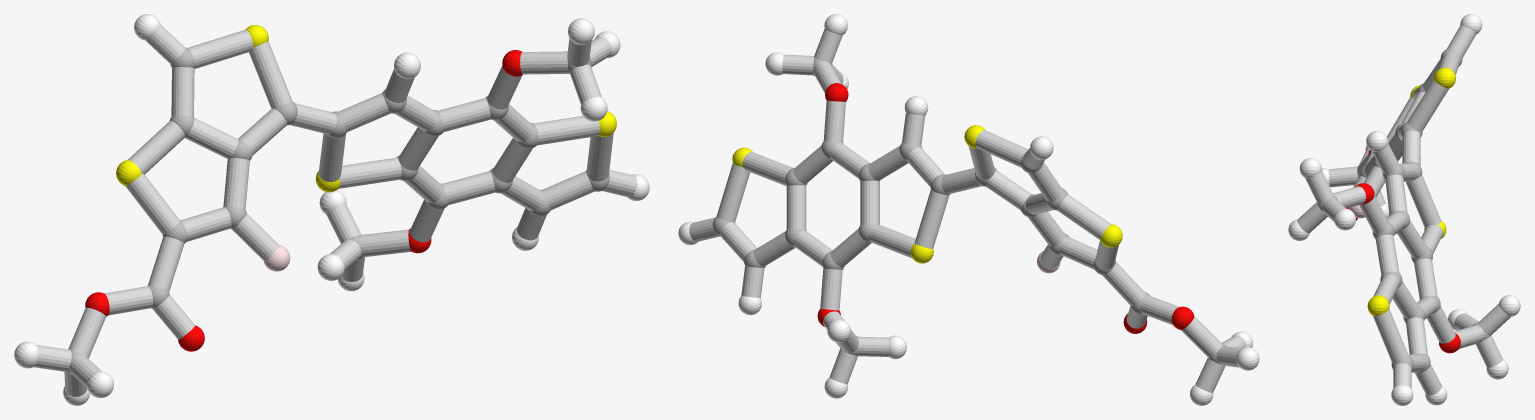
Rendered from color.glb.
The picture shows the model from 3 angles, left to right: view 1: azimuth 30°, elevation 25°; view 2: azimuth 150°, elevation 25°; view 3: azimuth 270°, elevation 25°; orthographic projection. The views are drawn at different scales.
Parts seen in each view (by area): view 1: grp15205, grp8689, grp1, grp13395, grp7241; view 2: grp15205, grp8689, grp1, grp7241, grp13395; view 3: grp15205, grp8689, grp1, grp7241, grp13395.
Boxes of the visible parts, x1,y1,x2,y2 form: grp15205: [33, 25, 637, 396]; grp8689: [14, 14, 649, 405]; grp1: [67, 48, 609, 374]; grp13395: [85, 50, 522, 351]; grp7241: [116, 25, 616, 192]; grp15205: [689, 29, 1246, 392]; grp8689: [678, 14, 1259, 405]; grp1: [712, 57, 1226, 363]; grp7241: [732, 125, 1122, 263]; grp13395: [817, 83, 1194, 333]; grp15205: [1297, 25, 1510, 395]; grp8689: [1288, 14, 1520, 405]; grp1: [1317, 49, 1489, 373]; grp7241: [1367, 67, 1455, 315]; grp13395: [1346, 150, 1460, 353].
Size of the model in its own units: 16.55 by 8.31 by 6.33.
